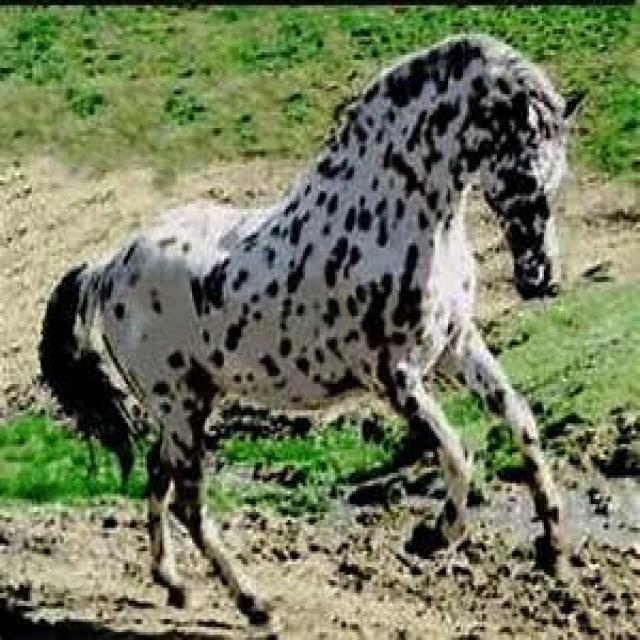horse: (47, 33, 574, 605)
